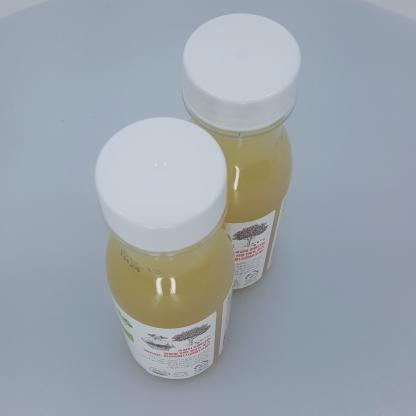--------------215ML: (94, 117, 235, 380), (181, 13, 302, 290)
